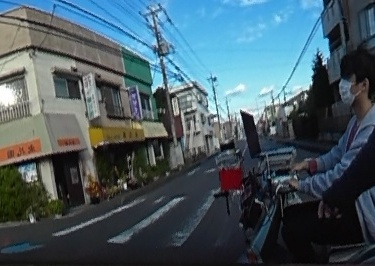person: (304, 46, 375, 254)
